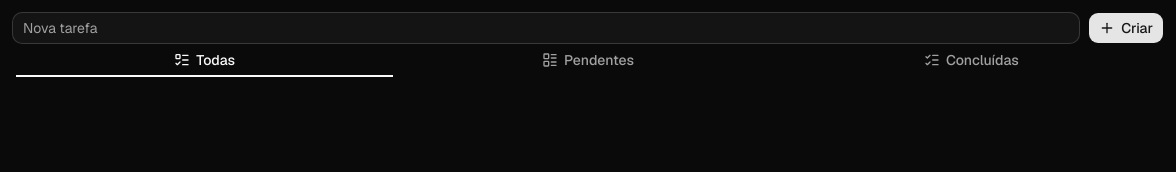
Test: TaskContainer › should keep the list unchanged while the creation is pending
In the field with placeholder "Nova tarefa": (546, 28) top-left (12, 12), bottom-right (1080, 44), type "my-fantastic-task"
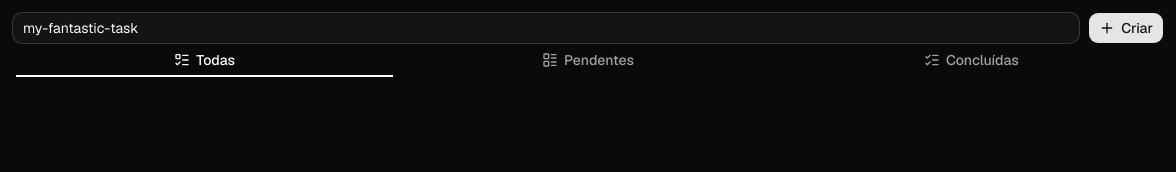
Click the button "Criar": (1126, 28) top-left (1088, 12), bottom-right (1164, 44)
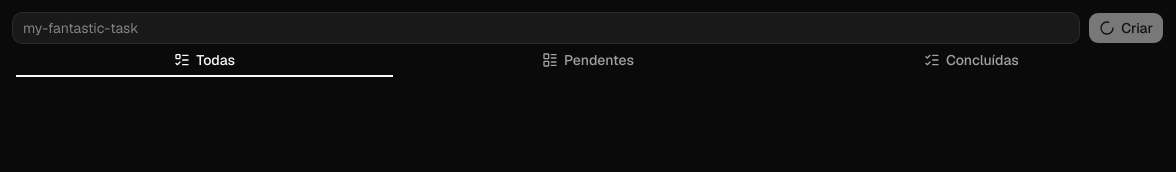
expect the button "Criar" is disabled: met, box top-left (1088, 12), bottom-right (1164, 44)
expect the field with placeholder "Nova tarefa" is disabled: met, box top-left (12, 12), bottom-right (1080, 44)
